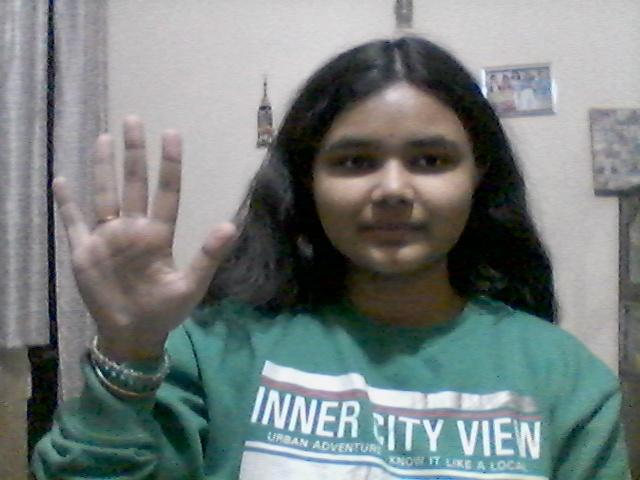hello: (31, 106, 240, 371)
